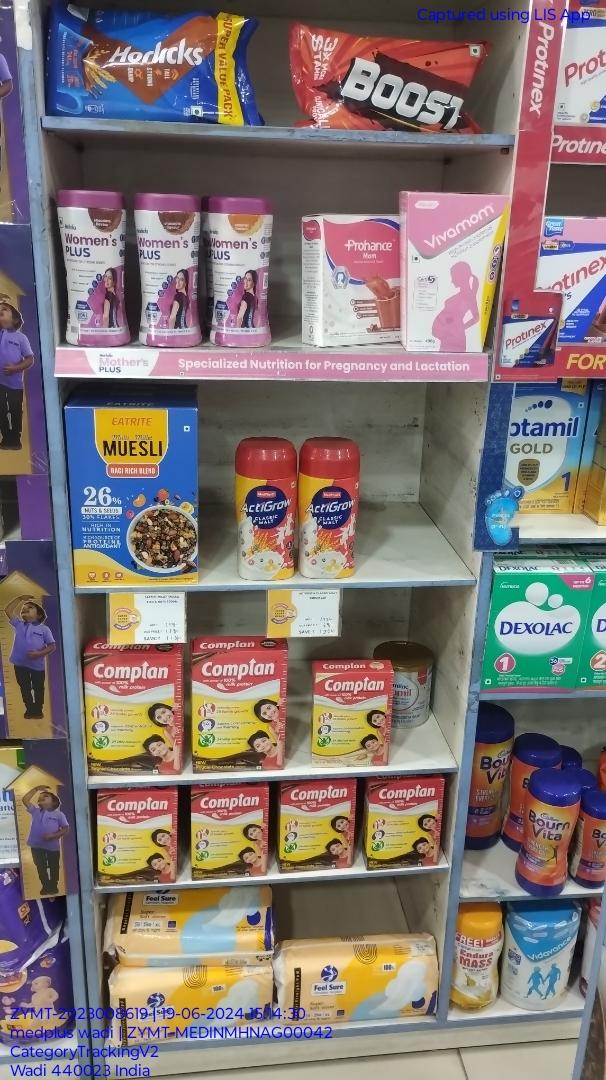BOURN_VITA_500_G_JAR: (521, 770, 577, 895)
COMPLAN_CHOCOLATE_200_GMS_PACK: (97, 792, 176, 887), (192, 787, 268, 880), (281, 780, 356, 869), (370, 780, 441, 870)
COMPLAN_KESAR_BADAM_200_GMS_PACK: (315, 671, 392, 766)
